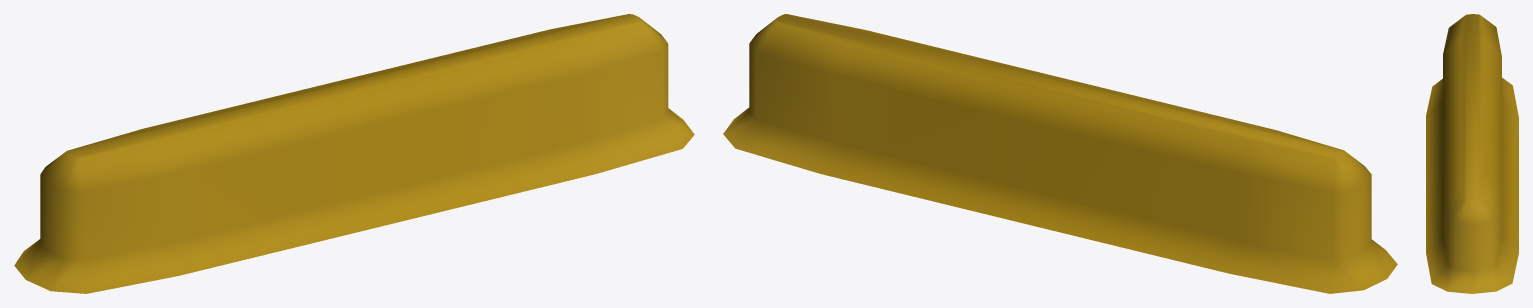
File: original-151.obj
3 views of the same model, side by side, from view 1: azimuth 30°, elevation 25°; view 2: azimuth 150°, elevation 25°; view 3: azimuth 270°, elevation 25° (orthographic). The views are drawn at different scales.
Parts seen in each view (by area): view 1: #ID986; view 2: #ID986; view 3: #ID986.
Part boxes in pixels (left/top/right/bottom): #ID986: left=14, top=14, right=694, bottom=293; #ID986: left=723, top=14, right=1397, bottom=293; #ID986: left=1426, top=14, right=1518, bottom=293.
Size of the model in its own units: 0.0146 by 0.00241 by 0.00264.
1 material, 1 textured.
